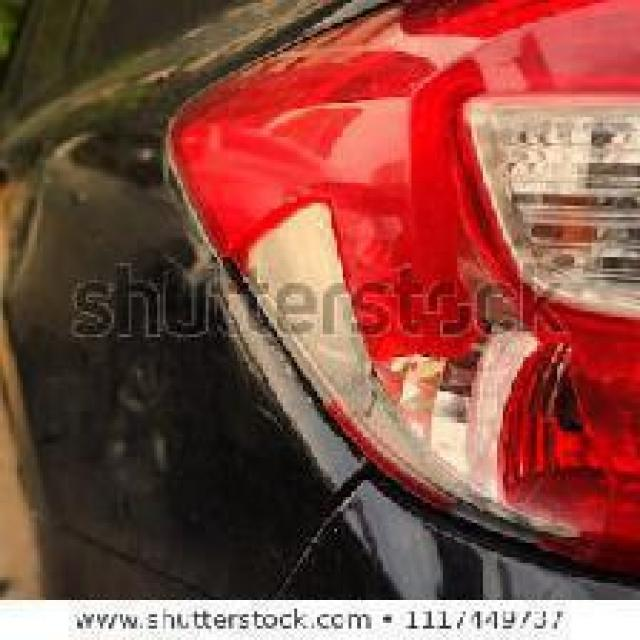damaged: (351, 332, 600, 554)
